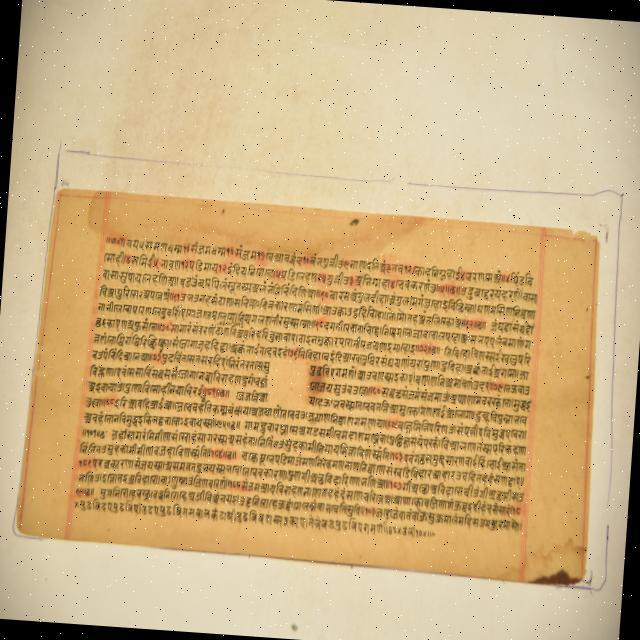text_paragraph: (13, 185, 593, 578)
